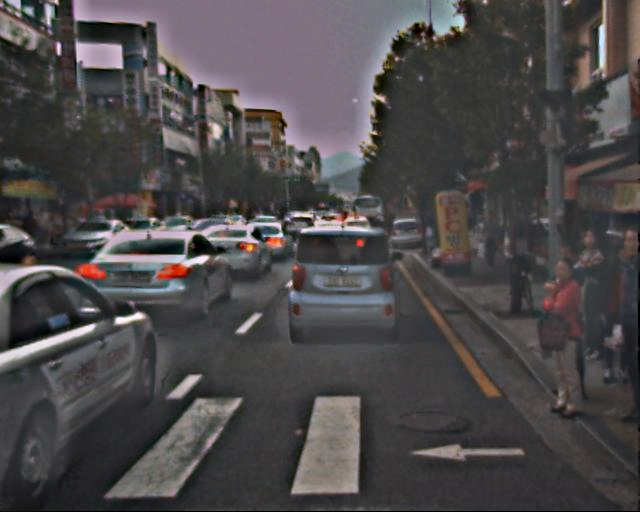person: (589, 227, 640, 426), (537, 240, 601, 395), (533, 260, 595, 412), (565, 225, 619, 357), (480, 209, 505, 269)
